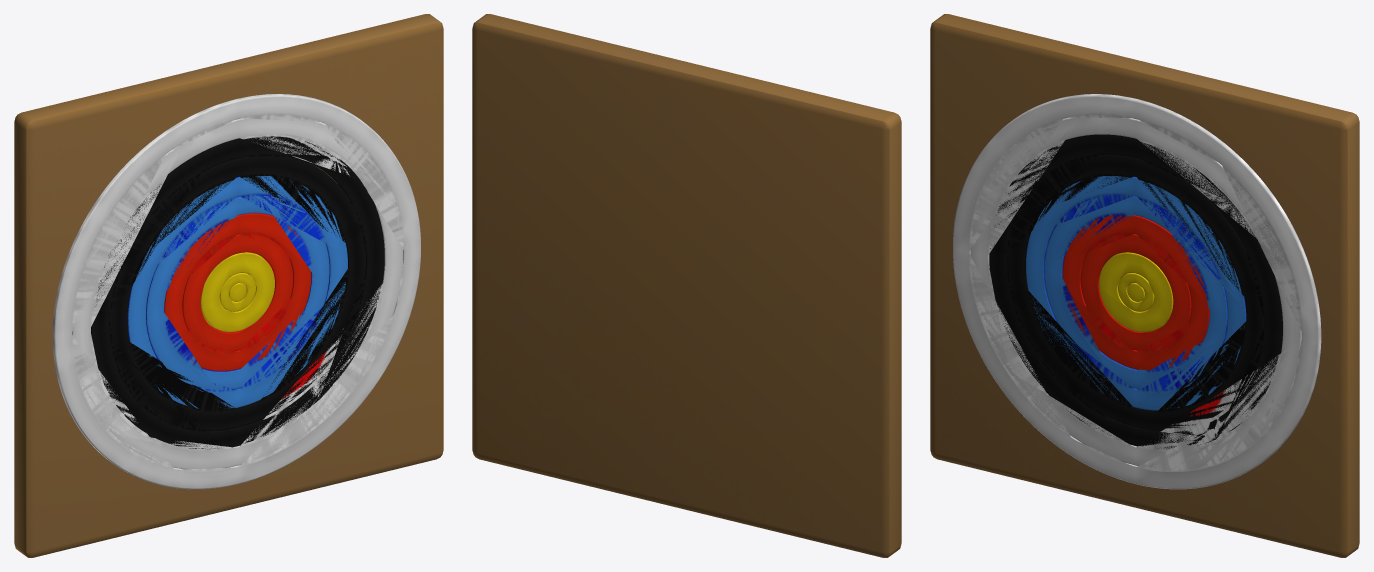
The model's file is Archery Target.obj.
The picture shows the model from 3 angles, left to right: view 1: azimuth 30°, elevation 25°; view 2: azimuth 150°, elevation 25°; view 3: azimuth 330°, elevation 25°; orthographic projection.
Visible parts, largest first — view 1: Target_Cylinder; view 2: Target_Cylinder; view 3: Target_Cylinder.
Boxes of the visible parts, x1,y1,x2,y2 form: Target_Cylinder: (14,14,443,557); Target_Cylinder: (472,14,901,557); Target_Cylinder: (930,14,1359,557).
Size of the model in its own units: 5.69 by 5.69 by 0.3913.
1 material, 1 textured.
